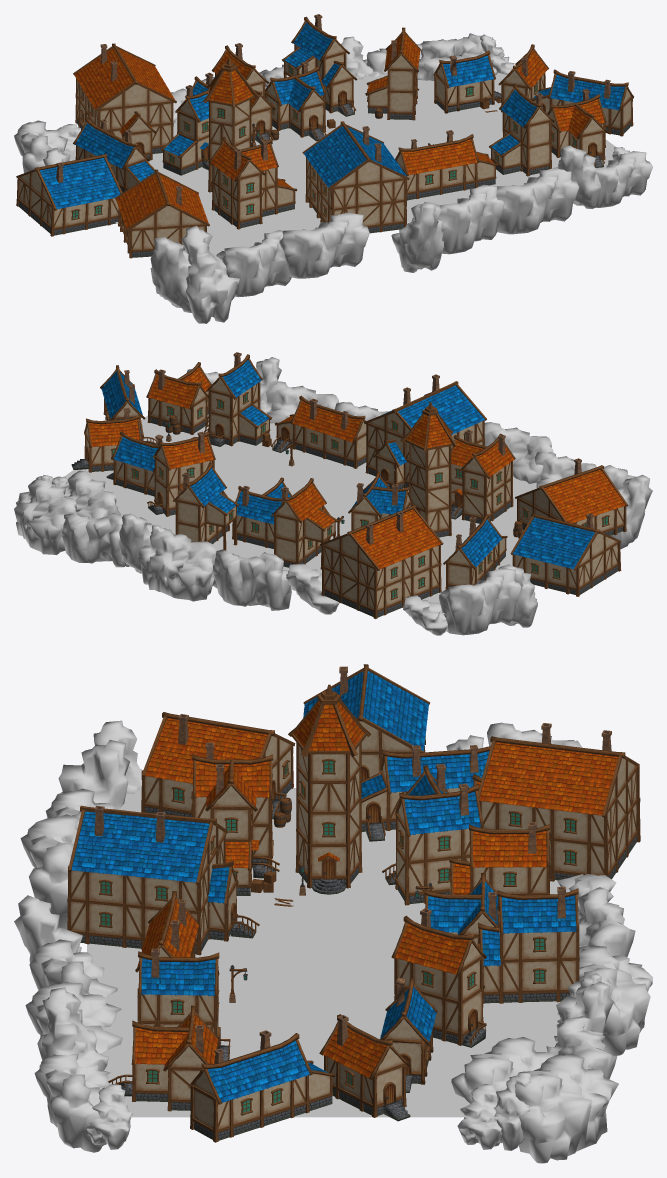
The model's file is Scenery.gltf.
3 views of the same model, one above another, from view 1: azimuth 30°, elevation 25°; view 2: azimuth 150°, elevation 25°; view 3: azimuth 270°, elevation 25° (orthographic). The views are drawn at different scales.
Parts seen in each view (by area): view 1: Ground, BH8, RH8, BH6, RH6, RH7, RH3, R4.006, BH1, R4.003, BH7, Tower (+21 smaller); view 2: Ground, RH8, BH6, BH8, RH7, RH6, Tower, RH3, R4.012, BH1, RH4, R4.011 (+24 smaller); view 3: Ground, BH8, RH8, Tower, BH5.001, BH7, RH7, BH4, RH5, RH6, R4.014, RH1 (+27 smaller).
Part boxes in pixels (x1=…): Ground: x1=64, y1=72, x2=615, y2=275; BH8: x1=302, y1=121, x2=409, y2=233; RH8: x1=73, y1=43, x2=176, y2=160; BH6: x1=16, y1=153, x2=122, y2=236; RH6: x1=208, y1=137, x2=297, y2=229; RH7: x1=115, y1=169, x2=209, y2=258; RH3: x1=395, y1=130, x2=497, y2=200; R4.006: x1=279, y1=212, x2=369, y2=278; BH1: x1=489, y1=83, x2=554, y2=176; R4.003: x1=496, y1=167, x2=579, y2=234; BH7: x1=282, y1=14, x2=357, y2=116; Tower: x1=203, y1=58, x2=259, y2=192; Ground: x1=64, y1=414, x2=536, y2=614; RH8: x1=320, y1=505, x2=443, y2=618; BH6: x1=510, y1=513, x2=621, y2=596; BH8: x1=364, y1=374, x2=486, y2=488; RH7: x1=515, y1=458, x2=627, y2=535; RH6: x1=451, y1=429, x2=515, y2=523; Tower: x1=400, y1=402, x2=456, y2=537; RH3: x1=271, y1=395, x2=366, y2=468; R4.012: x1=138, y1=528, x2=217, y2=601; BH1: x1=205, y1=352, x2=272, y2=446; RH4: x1=271, y1=478, x2=337, y2=569; R4.011: x1=439, y1=568, x2=521, y2=635; Ground: x1=87, y1=788, x2=560, y2=1117; BH8: x1=67, y1=805, x2=259, y2=955; RH8: x1=472, y1=723, x2=640, y2=881; Tower: x1=288, y1=684, x2=371, y2=894; BH5.001: x1=188, y1=1030, x2=335, y2=1142; BH7: x1=477, y1=886, x2=579, y2=1003; RH7: x1=141, y1=712, x2=295, y2=819; BH4: x1=382, y1=763, x2=483, y2=905; RH5: x1=391, y1=908, x2=486, y2=1047; RH6: x1=191, y1=742, x2=279, y2=895; R4.014: x1=515, y1=1053, x2=618, y2=1163; RH1: x1=108, y1=1005, x2=219, y2=1111.
Bounding box in the file's own units: 502 × 152 × 338.
